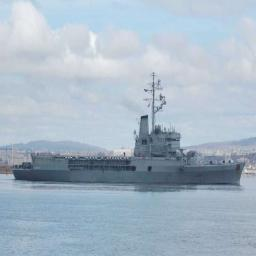Portanaves: (9, 60, 247, 189)
